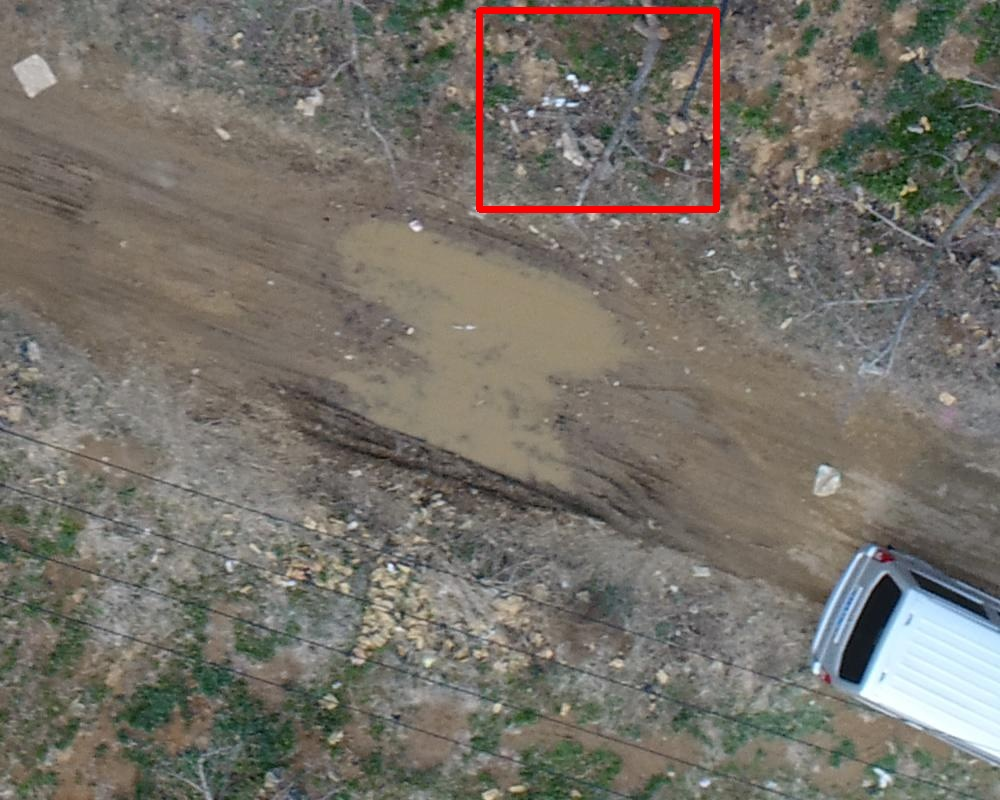apple: (479, 10, 716, 209)
